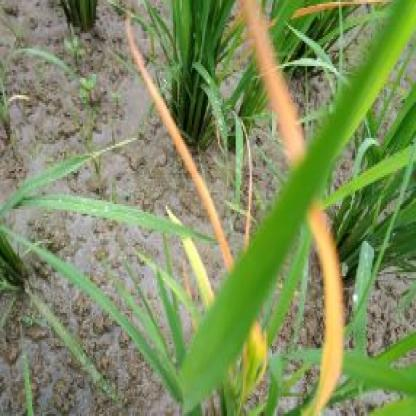Tungro: (270, 21, 349, 403)
